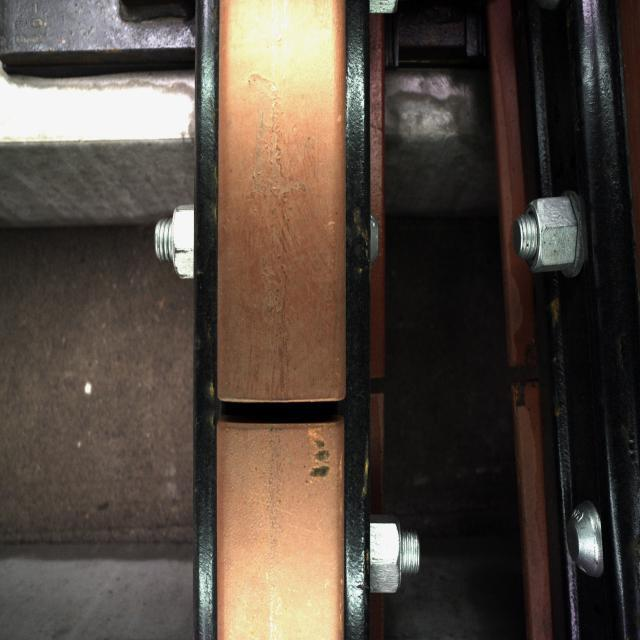spalling: (201, 357, 354, 475)
